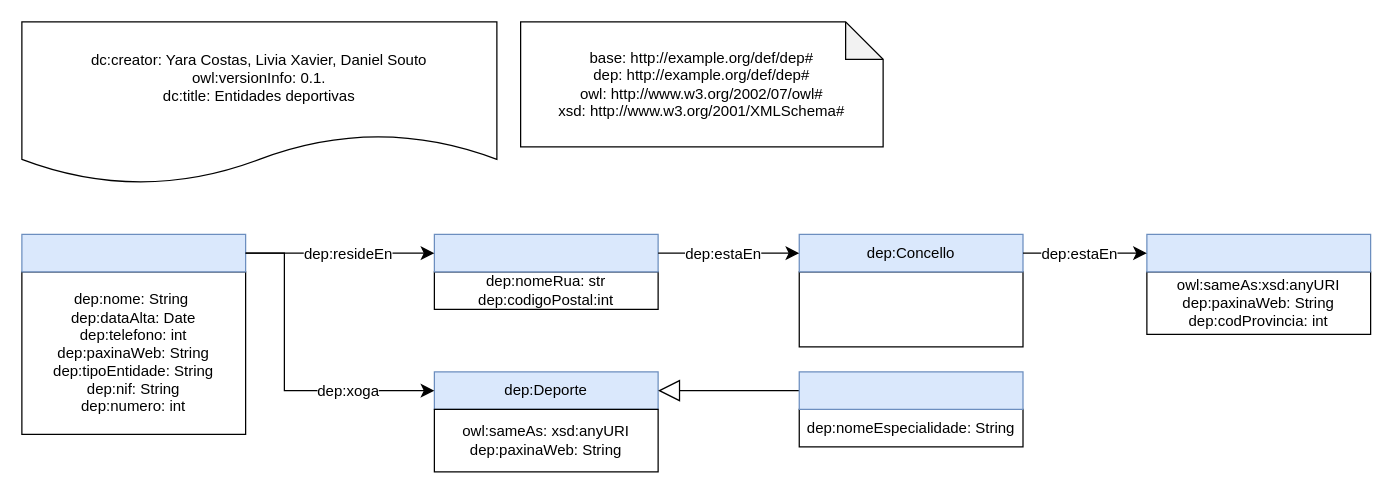
Some shapes in this 1393 by 494 pixel diagram are drawn without their labels. The shapes that lost their labels are listed below. From the top down, each one's box as (x1, y1, x2, y2) in pixels, then its label:
(21, 233, 246, 272): dep:Equipo
(433, 233, 658, 272): dep:Enderezo
(1146, 233, 1371, 272): dep:Provincia
(798, 271, 1023, 347): owl:sameAs:xsd:anyURI dep:paxinaWeb: String dep:codigoConcello:int
(798, 371, 1023, 409): dep: Especialidade
